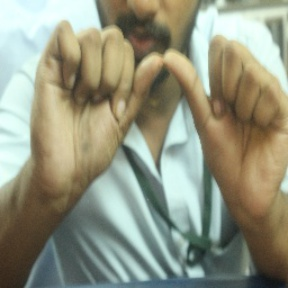A: (68, 22, 273, 187)
